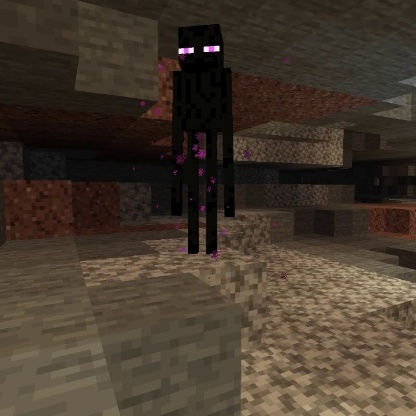enderman: (167, 20, 240, 259)
